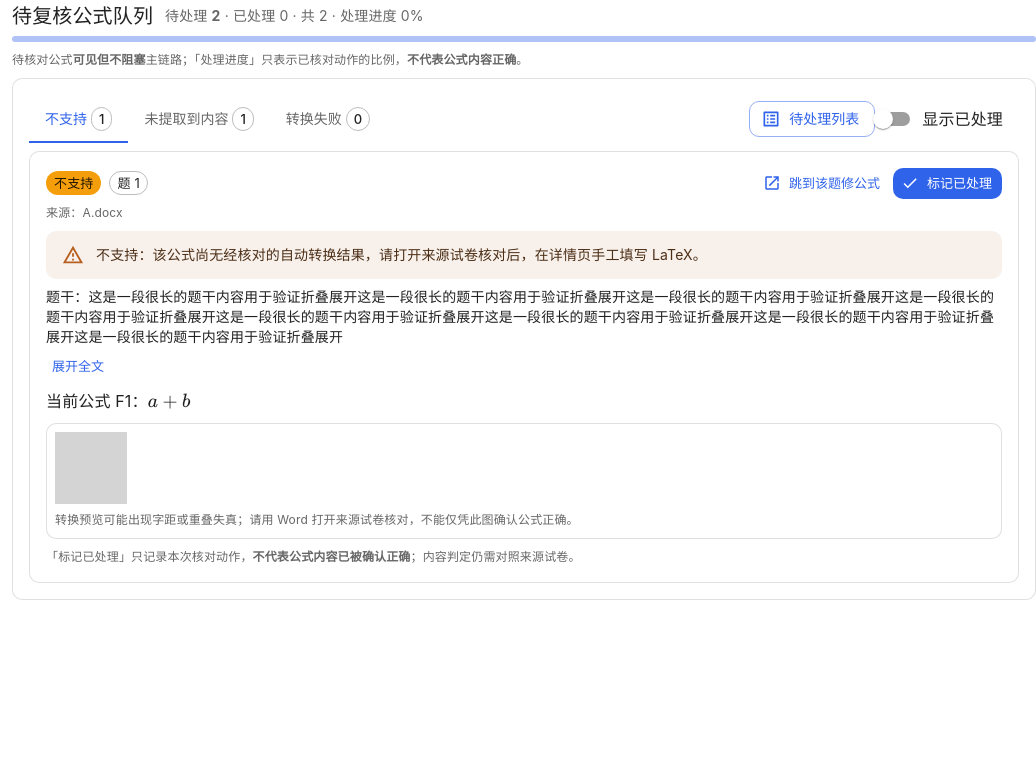
Test: B4-2 公式复核主从详情 › 长题干提供展开按钮且切换为收起
Click the button "展开全文". click: click(78, 366)
box: [46,351,110,381]
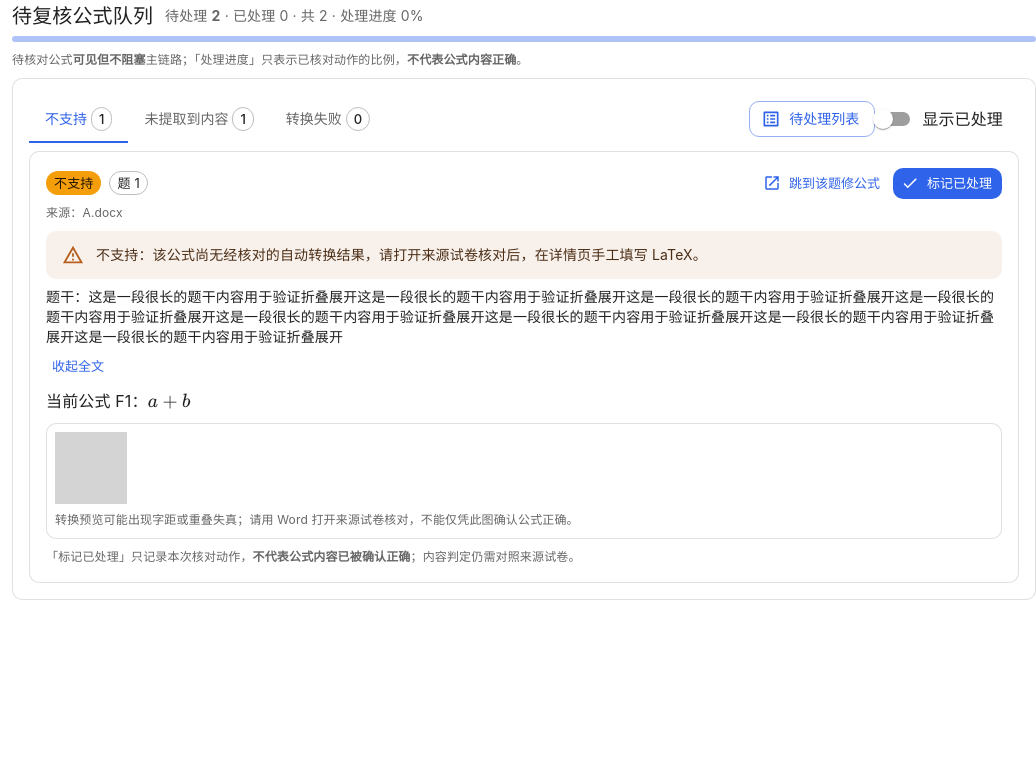
Expected: the button "收起全文" is shown, [46,351,110,381]
